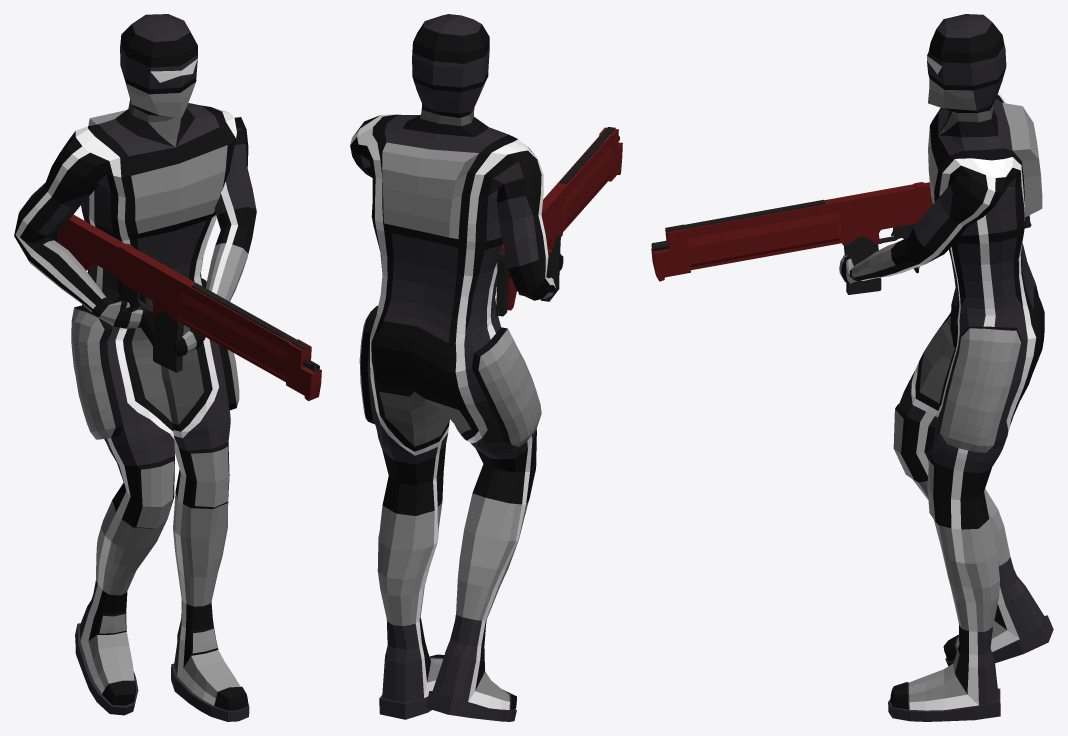
File: MCR1.obj
The picture shows the model from 3 angles, left to right: view 1: azimuth 30°, elevation 25°; view 2: azimuth 150°, elevation 25°; view 3: azimuth 270°, elevation 25°; orthographic projection. The views are drawn at different scales.
Visible parts, largest first — view 1: metarig_object_metarig_mesh, Cube.001; view 2: metarig_object_metarig_mesh, Cube.001; view 3: metarig_object_metarig_mesh, Cube.001.
Boxes of the visible parts, x1=… form: metarig_object_metarig_mesh: x1=14, y1=14, x2=256, y2=721; Cube.001: x1=48, y1=214, x2=321, y2=401; metarig_object_metarig_mesh: x1=350, y1=14, x2=563, y2=721; Cube.001: x1=495, y1=127, x2=622, y2=316; metarig_object_metarig_mesh: x1=839, y1=14, x2=1053, y2=721; Cube.001: x1=651, y1=182, x2=1031, y2=294.
Size of the model in its own units: 0.5399 by 1.7 by 0.9201.
2 materials, 2 textured.
